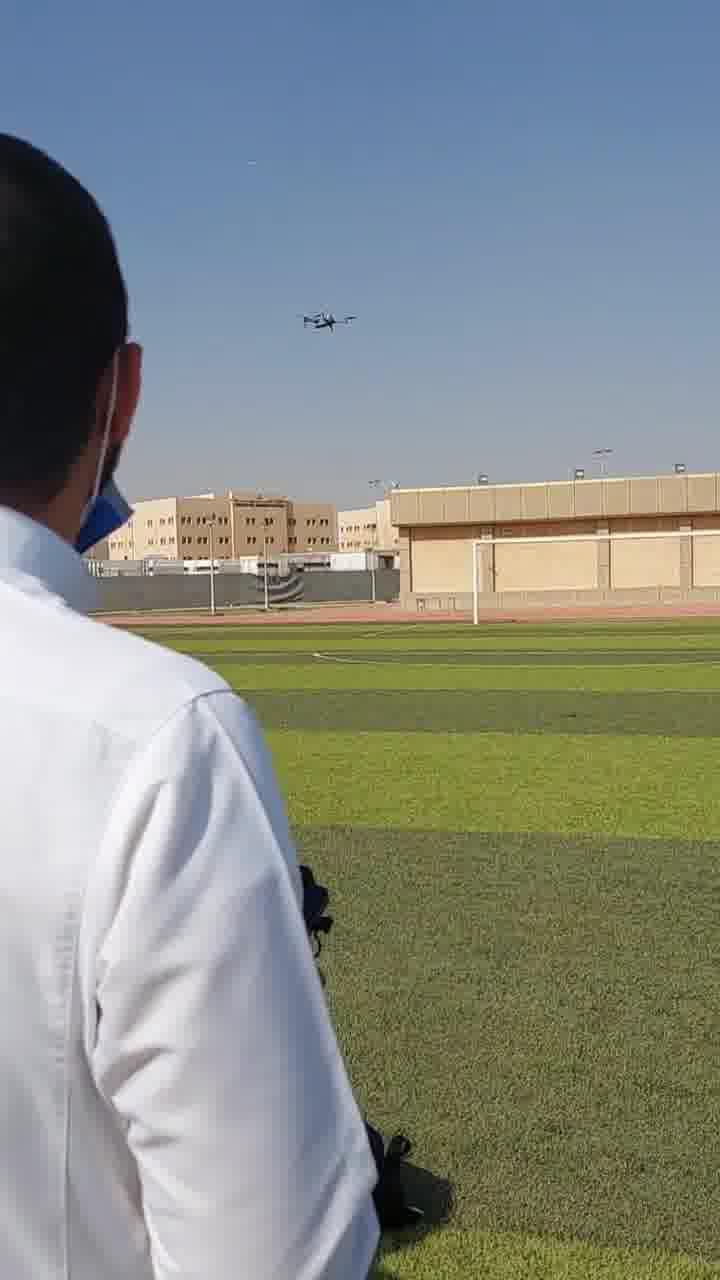drone: (290, 292, 357, 335)
